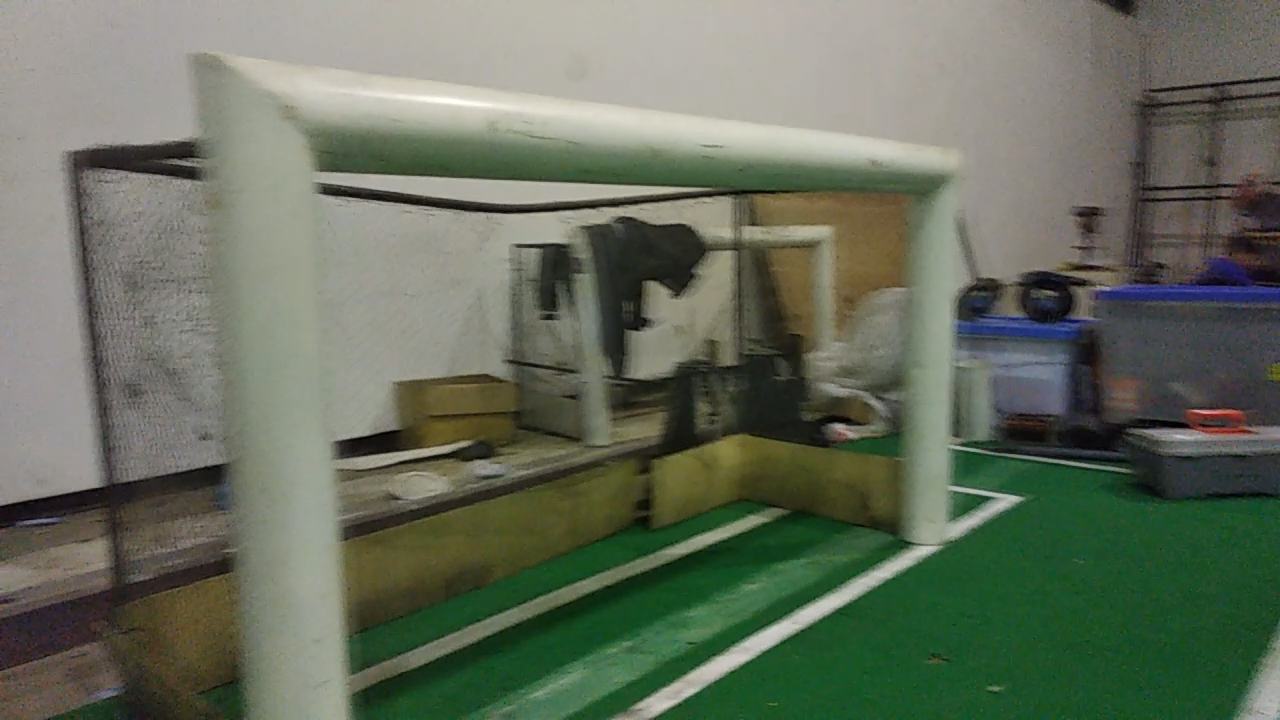gawang: (170, 37, 975, 712)
